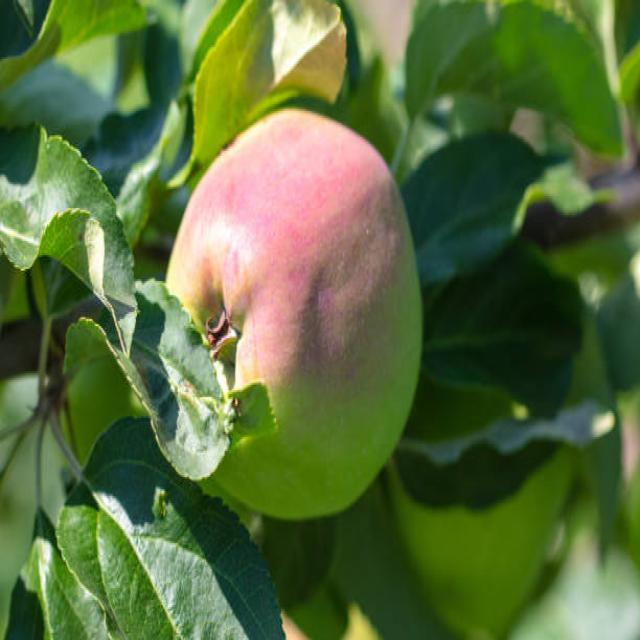Unripe: (166, 106, 423, 521)
